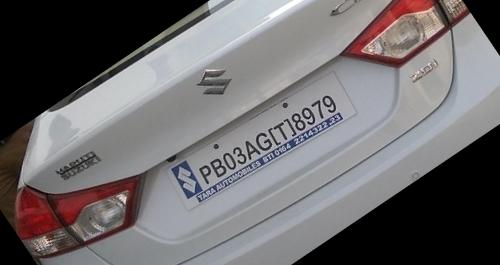plate: (151, 46, 371, 232)
